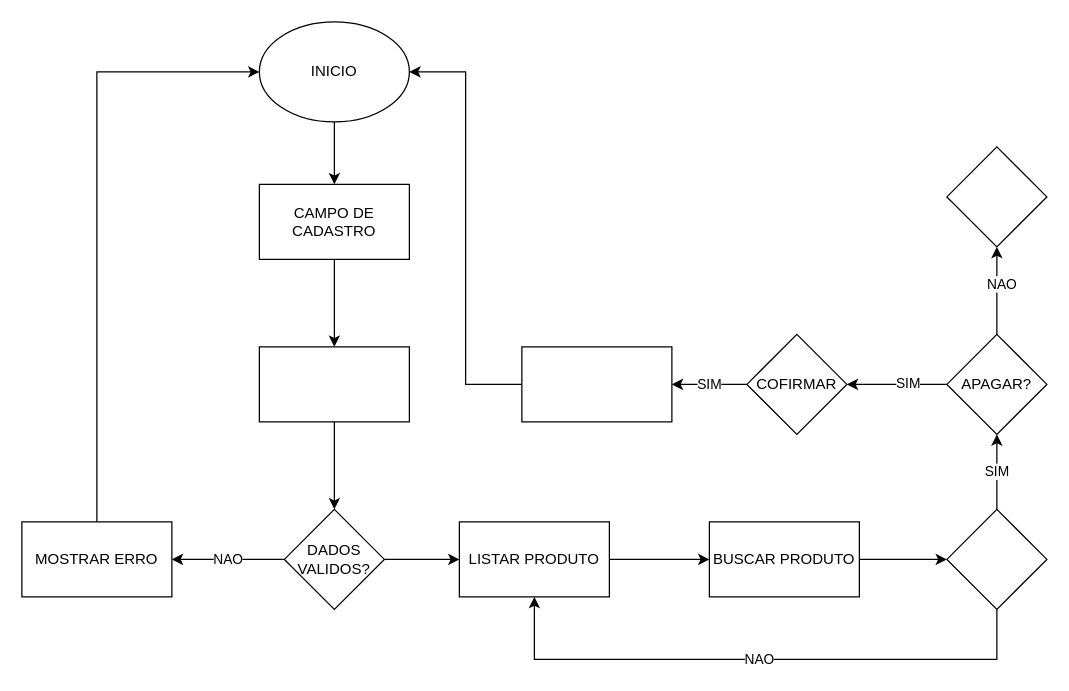
Some shapes in this 1069 by 691 pixel diagram are drawn without their labels. Here are the shapes that lost their labels. From the top down, the centre of each, then its label:
At pixel 996 196: "ATUALIZAR?".
At pixel 333 384: "PREENCHER CAMPO".
At pixel 596 384: "APAGAR CLIENTE".
At pixel 996 558: "PRODUTO EXISTENTE?".
